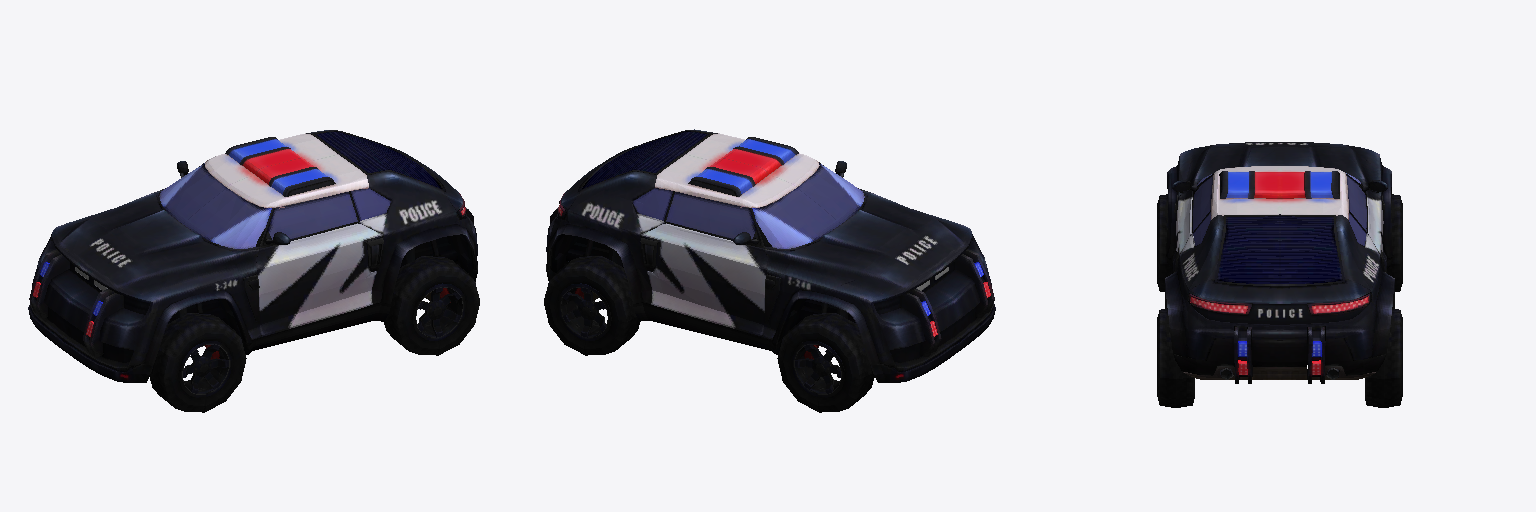
3 renders of one model, left to right at view 1: azimuth 30°, elevation 25°; view 2: azimuth 150°, elevation 25°; view 3: azimuth 270°, elevation 25°, orthographic.
Parts seen in each view (by area): view 1: g0; view 2: g0; view 3: g0.
Boxes of the visible parts, x1=… form: g0: x1=28, y1=130, x2=479, y2=412; g0: x1=544, y1=129, x2=995, y2=412; g0: x1=1157, y1=142, x2=1402, y2=407.
Size of the model in its own units: 6.67 by 2.85 by 3.61.
Materials: 1 (1 with a texture image).